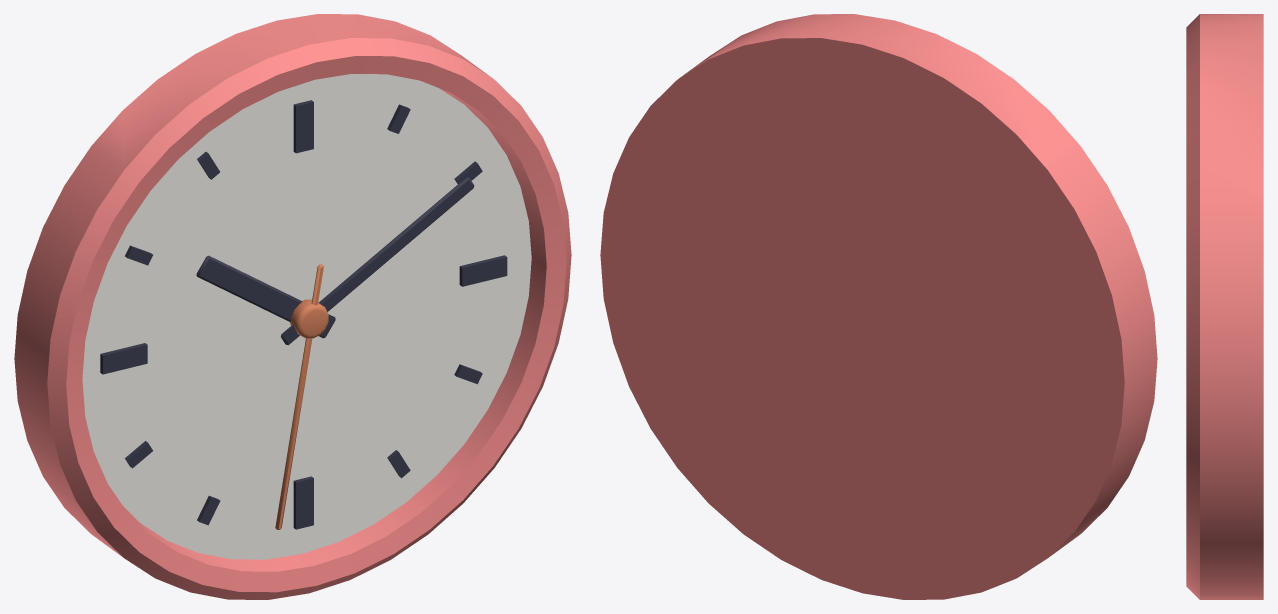
Rendered from wall_clock.glb.
The picture shows the model from 3 angles, left to right: view 1: azimuth 30°, elevation 25°; view 2: azimuth 150°, elevation 25°; view 3: azimuth 270°, elevation 25°; orthographic projection. The views are drawn at different scales.
Visible parts, largest first — view 1: white, accent_rim, charcoal, hand_red; view 2: accent_rim; view 3: accent_rim.
Boxes of the visible parts, x1,y1,x2,y2 form: white: (82,74,531,559); accent_rim: (14,14,571,599); charcoal: (100,100,507,529); hand_red: (275,264,328,529); accent_rim: (600,14,1157,599); accent_rim: (1186,14,1263,599).
Size of the model in its own units: 0.35 by 0.35 by 0.046.
